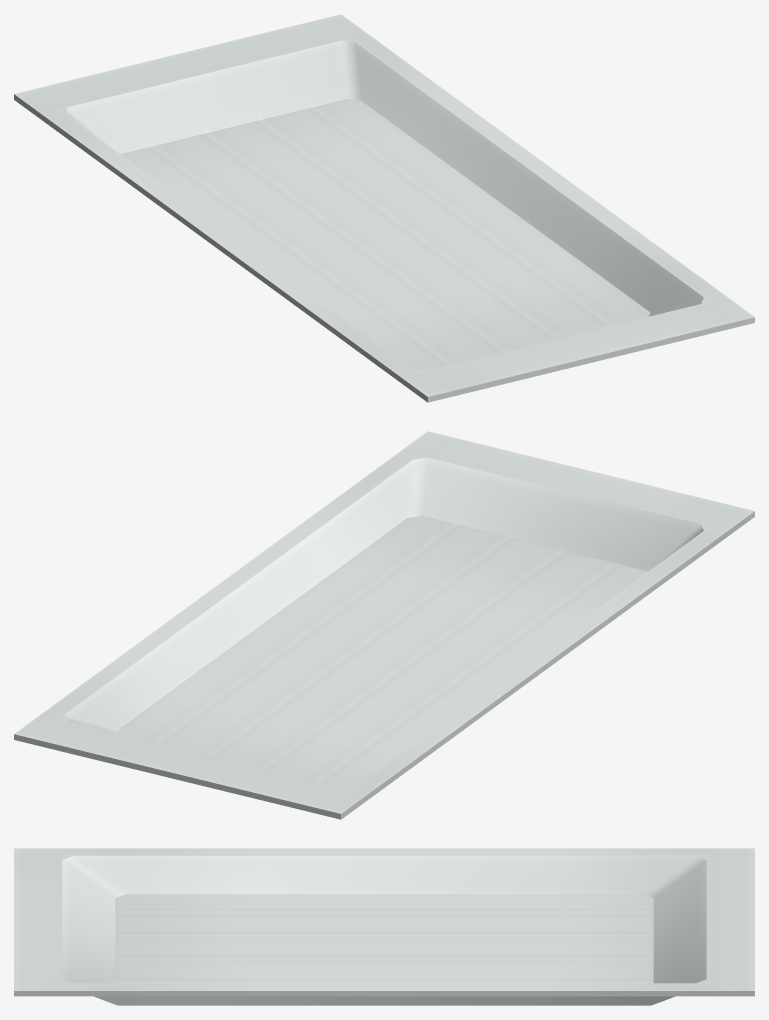
Rendered from jsf_PlasticTray_03.fbx.
3 views of the same model, one above another, from view 1: azimuth 30°, elevation 25°; view 2: azimuth 150°, elevation 25°; view 3: azimuth 270°, elevation 25° (orthographic). The views are drawn at different scales.
Parts seen in each view (by area): view 1: jsf_PlasticTray_03; view 2: jsf_PlasticTray_03; view 3: jsf_PlasticTray_03.
Part boxes in pixels (left/top/right/bottom): jsf_PlasticTray_03: left=14, top=14, right=754, bottom=402; jsf_PlasticTray_03: left=14, top=431, right=754, bottom=819; jsf_PlasticTray_03: left=14, top=848, right=754, bottom=1005.
Size of the model in its own units: 13.28 by 1.43 by 29.1.
